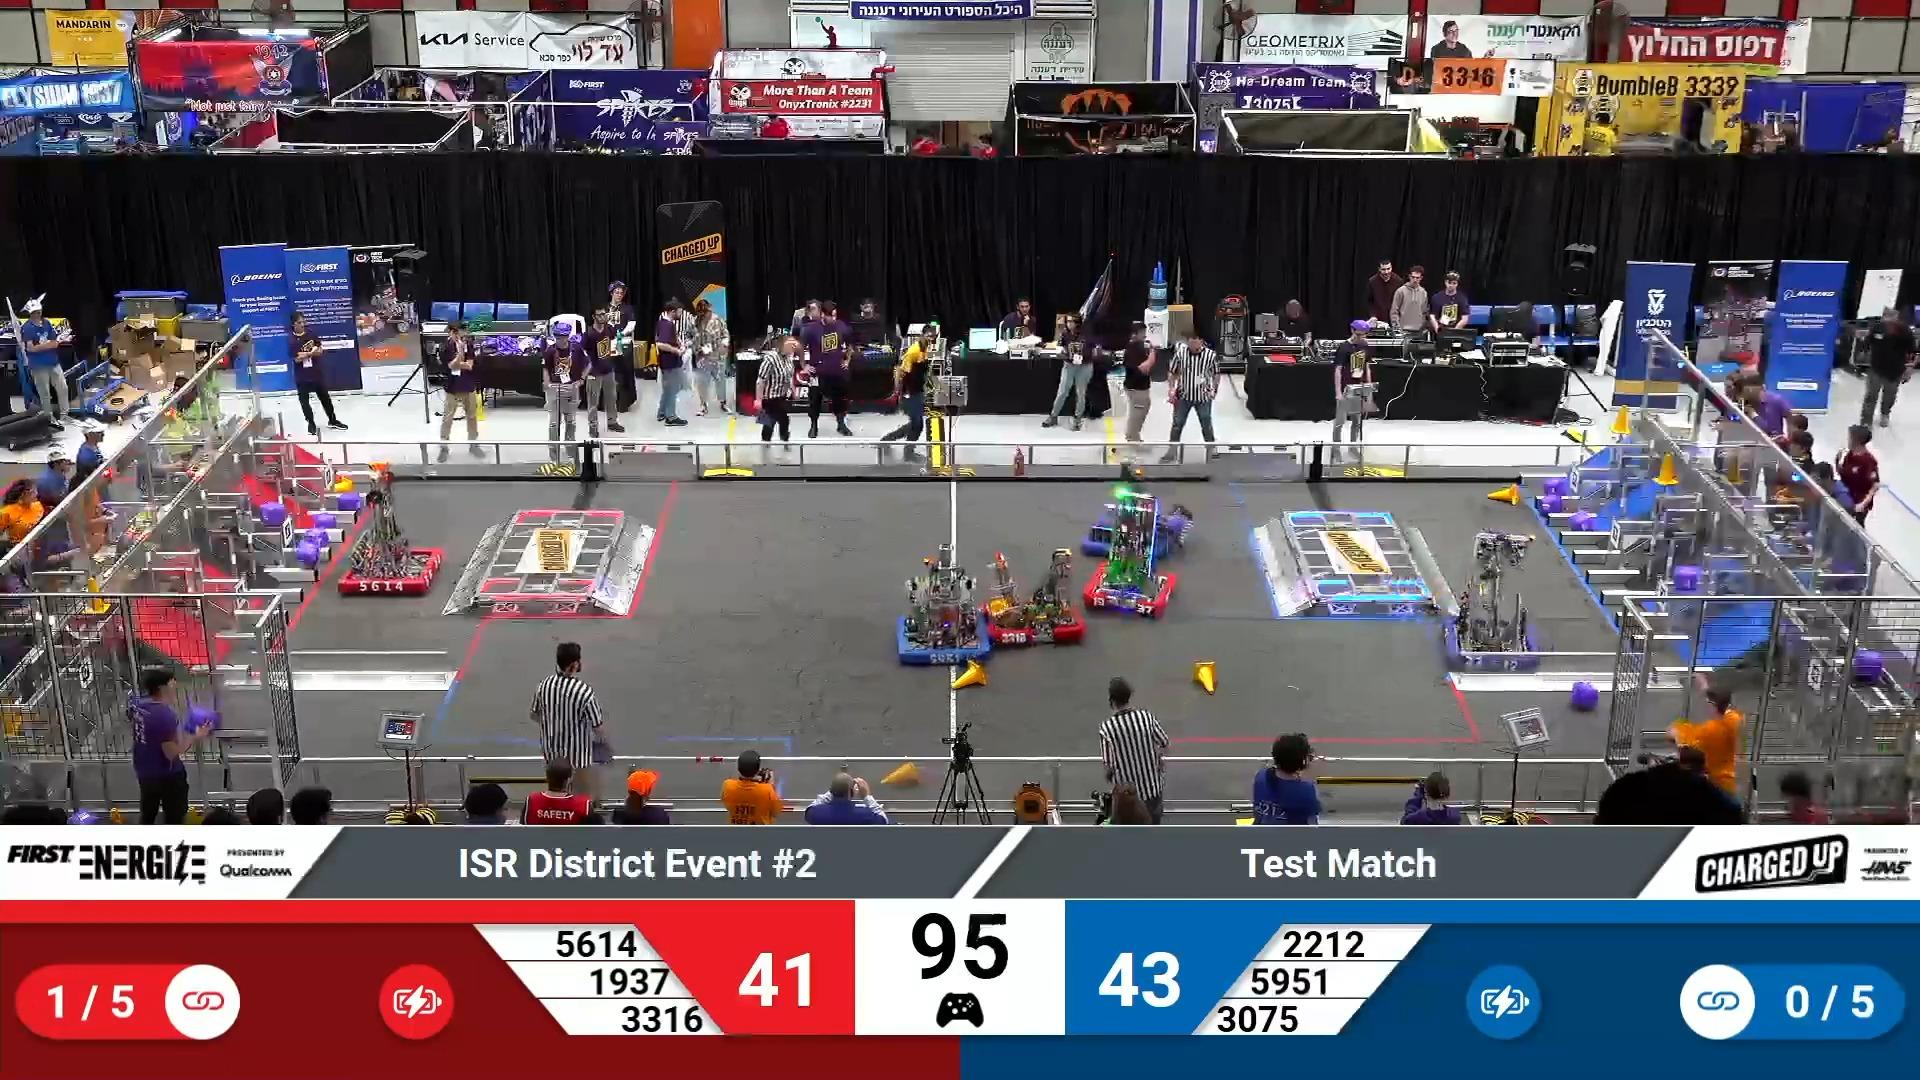robot: (339, 455, 446, 596), (1443, 550, 1542, 671), (895, 543, 990, 669), (1083, 464, 1187, 567), (1087, 501, 1178, 615), (989, 549, 1084, 646)
